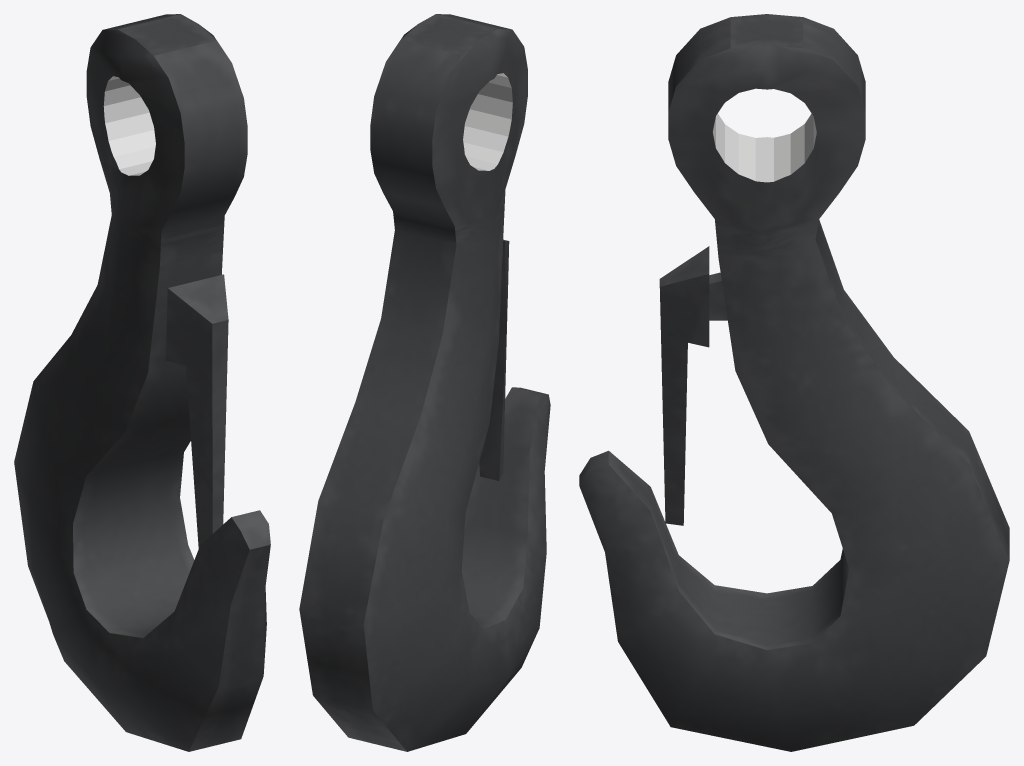
The model's file is Anchor 1.fbx.
The picture shows the model from 3 angles, left to right: view 1: azimuth 30°, elevation 25°; view 2: azimuth 150°, elevation 25°; view 3: azimuth 270°, elevation 25°; orthographic projection. The views are drawn at different scales.
Visible parts, largest first — view 1: craneBeamOverhead2.002; view 2: craneBeamOverhead2.002; view 3: craneBeamOverhead2.002.
Part boxes in pixels (x1,y1,x2,y2): craneBeamOverhead2.002: [14, 14, 270, 751]; craneBeamOverhead2.002: [299, 14, 550, 751]; craneBeamOverhead2.002: [579, 14, 1009, 751].
Bounding box in the file's own units: 4.43 × 22.42 × 12.36.
